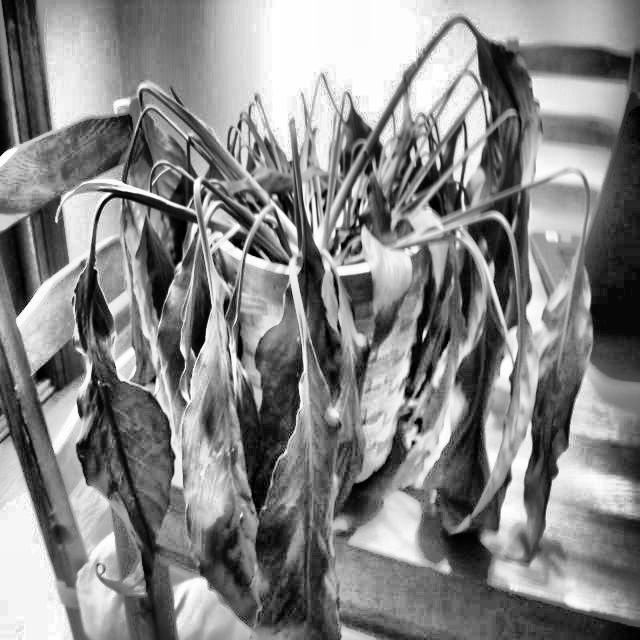plants: (73, 65, 597, 637)
